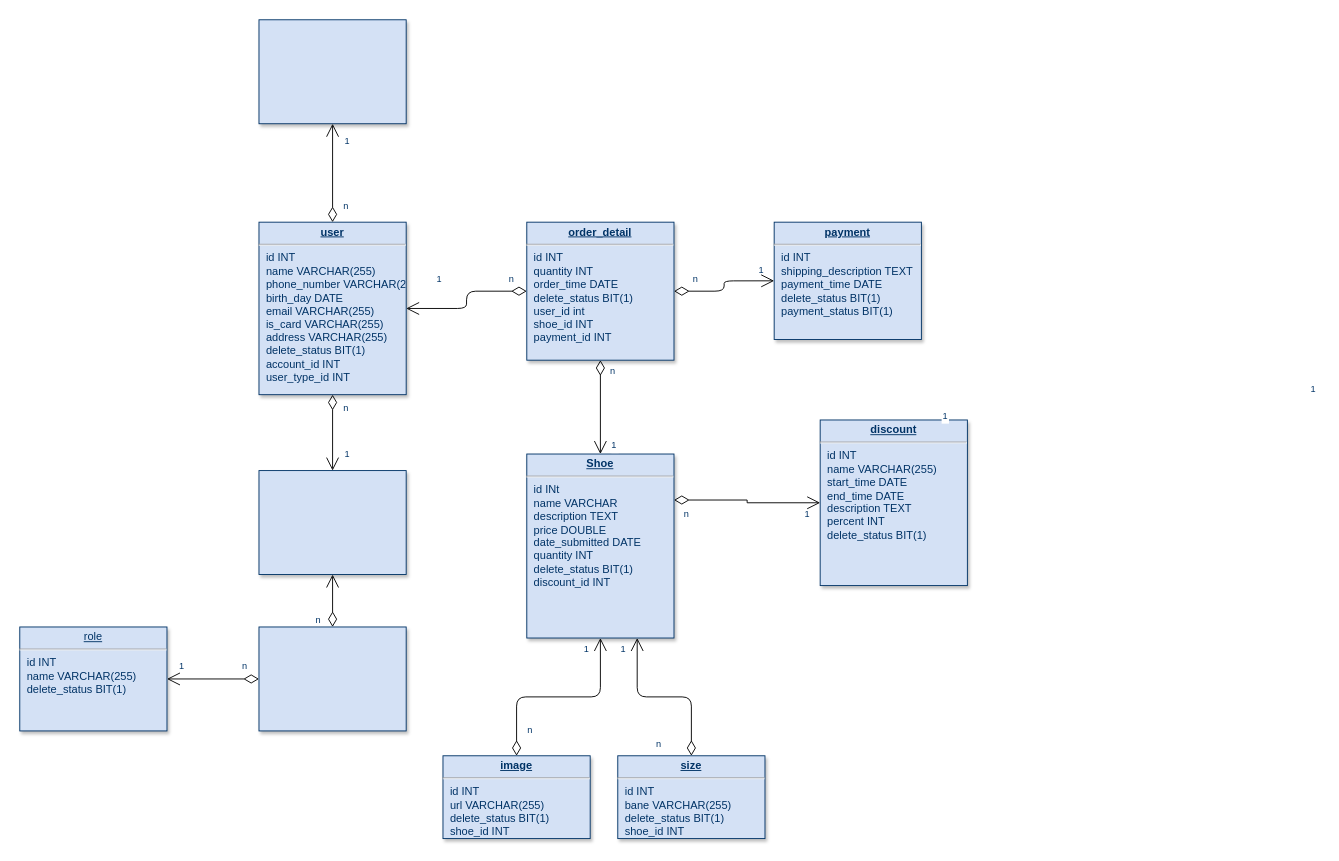
Some shapes in this 1339 by 861 pixel diagram are drawn without their labels. Here are the shapes that lost their labels. From the top down, the centre of each, then its label:
At (333,72): "user_type id INT name VARCHAR(255) percent INT delete_status BIT(1)".
At (333,523): "account id INT username VARCHAR(255) password VARCHAR(255) delete_status BIT(1)".
At (333,679): "account_role id INT account_id INT role_id INT delete_status BIT(1)".
